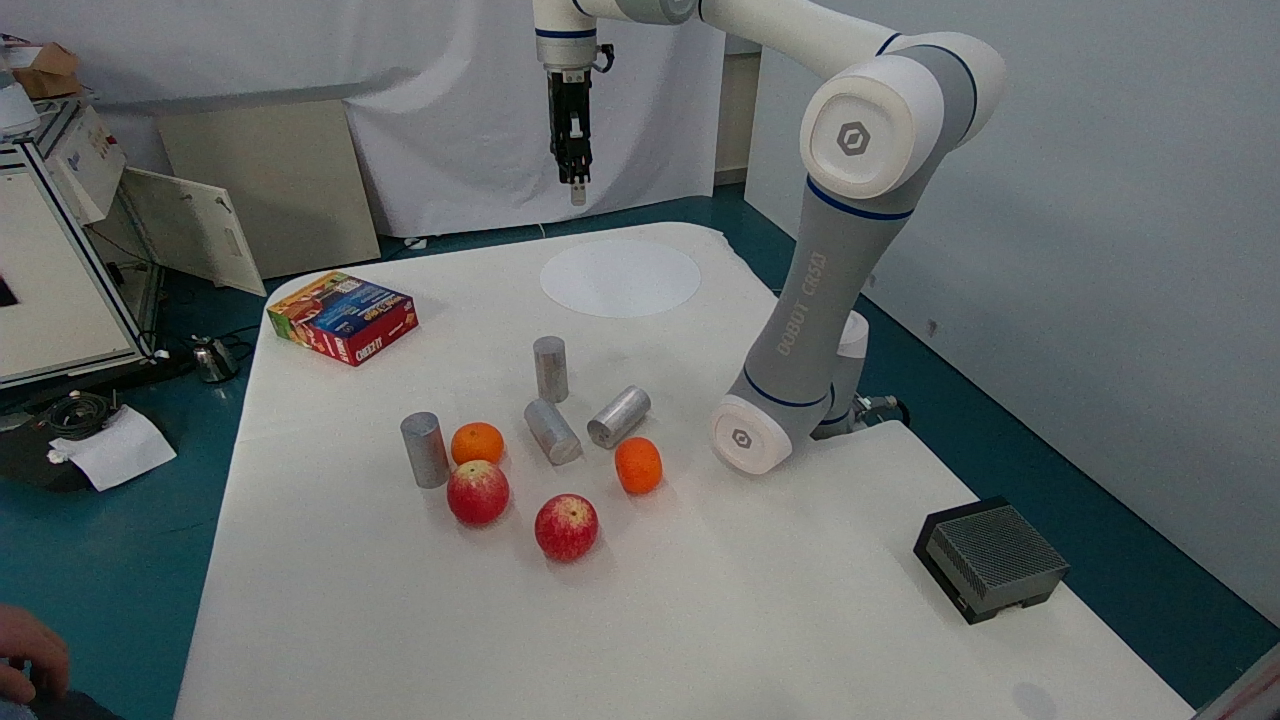apple: (605, 428, 680, 508), (438, 413, 513, 473)
metal rod: (430, 447, 518, 543), (524, 483, 609, 575)
orange: (394, 401, 479, 499), (510, 389, 588, 469), (582, 376, 663, 447), (513, 326, 575, 402)
